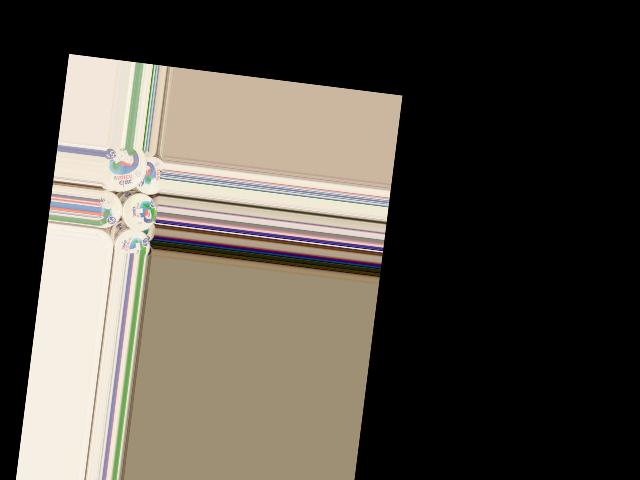cotage: (135, 155, 163, 198)
